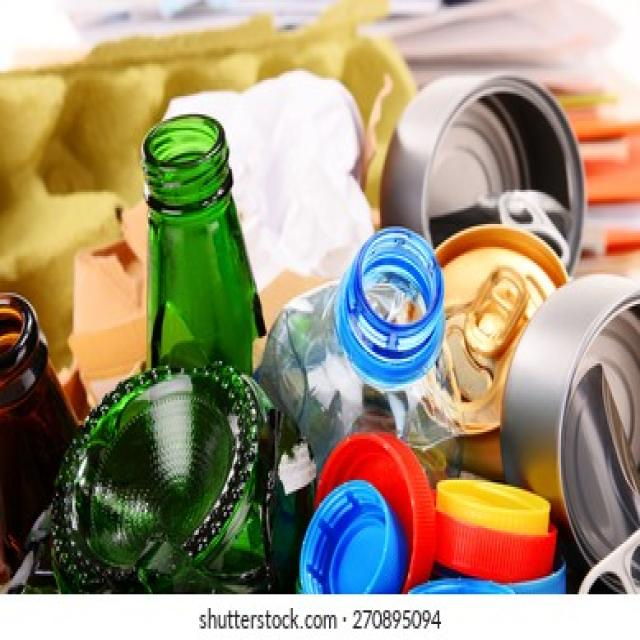glass: (61, 224, 260, 544)
metal: (508, 316, 632, 521)
plastic: (296, 284, 416, 418)
